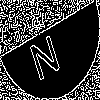N: (25, 25, 63, 82)
